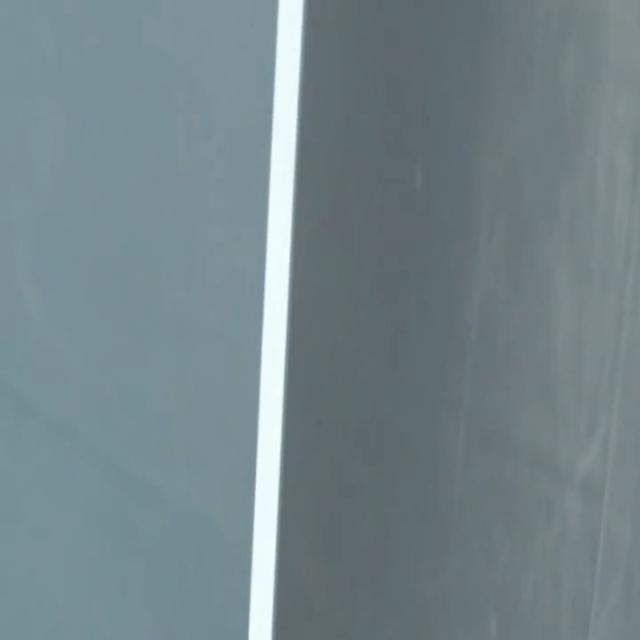left: (248, 0, 303, 639)
